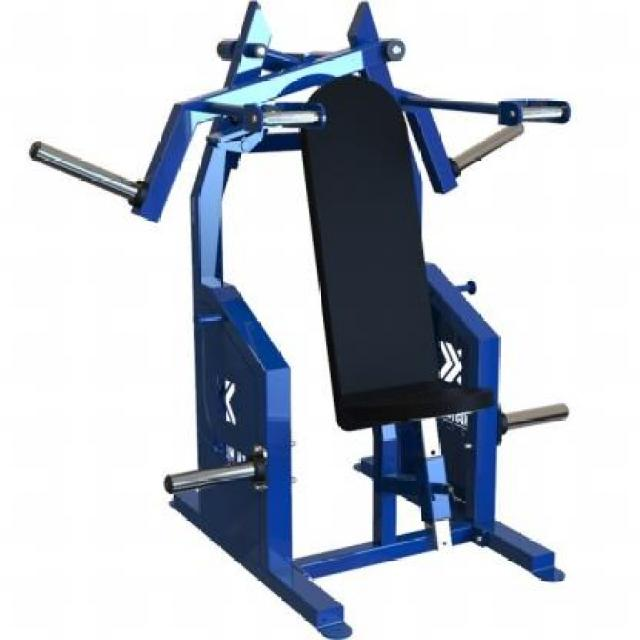shoulder press machine: (9, 0, 636, 635)
